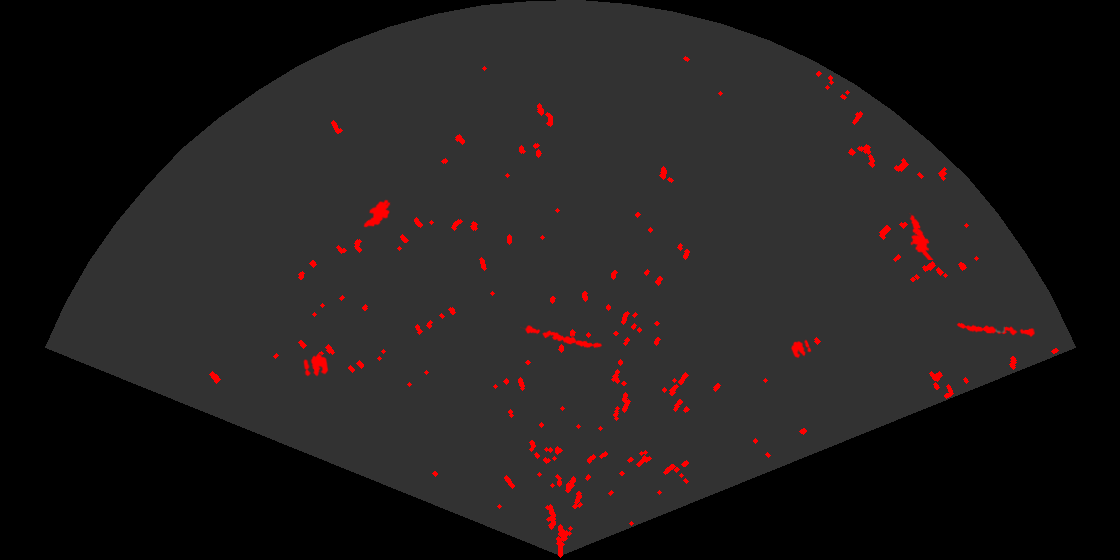AUV: (362, 198, 392, 229)
ball: (302, 353, 330, 378), (789, 338, 813, 360)
chain: (520, 324, 604, 350), (955, 321, 1035, 339)
frogman: (907, 213, 935, 260)
